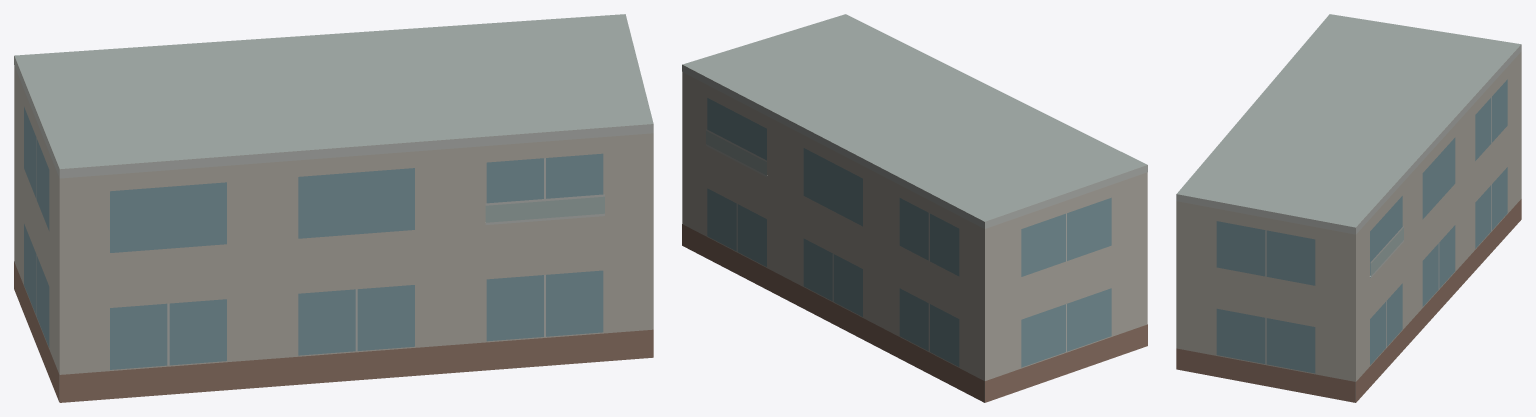
The model's file is survey-upis-32816546.glb.
3 views of the same model, side by side, from view 1: azimuth 30°, elevation 25°; view 2: azimuth 150°, elevation 25°; view 3: azimuth 270°, elevation 25° (orthographic). The views are drawn at different scales.
Visible parts, largest first — view 1: survey-upis-32816546.tmp; view 2: survey-upis-32816546.tmp; view 3: survey-upis-32816546.tmp.
Part boxes in pixels (box(x1,y1,x2,y2)): survey-upis-32816546.tmp: box(14, 14, 653, 402); survey-upis-32816546.tmp: box(682, 14, 1147, 402); survey-upis-32816546.tmp: box(1176, 14, 1521, 402).
Size of the model in its own units: 15.95 by 6.1 by 10.89.
